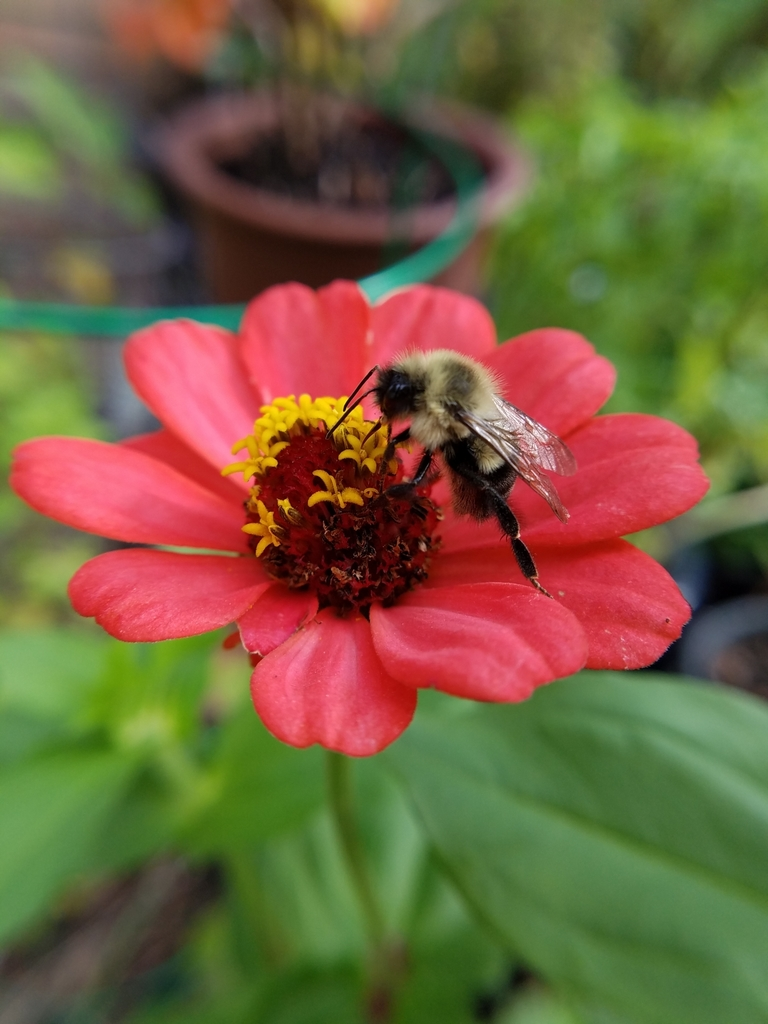bumblebee: (329, 348, 576, 601)
